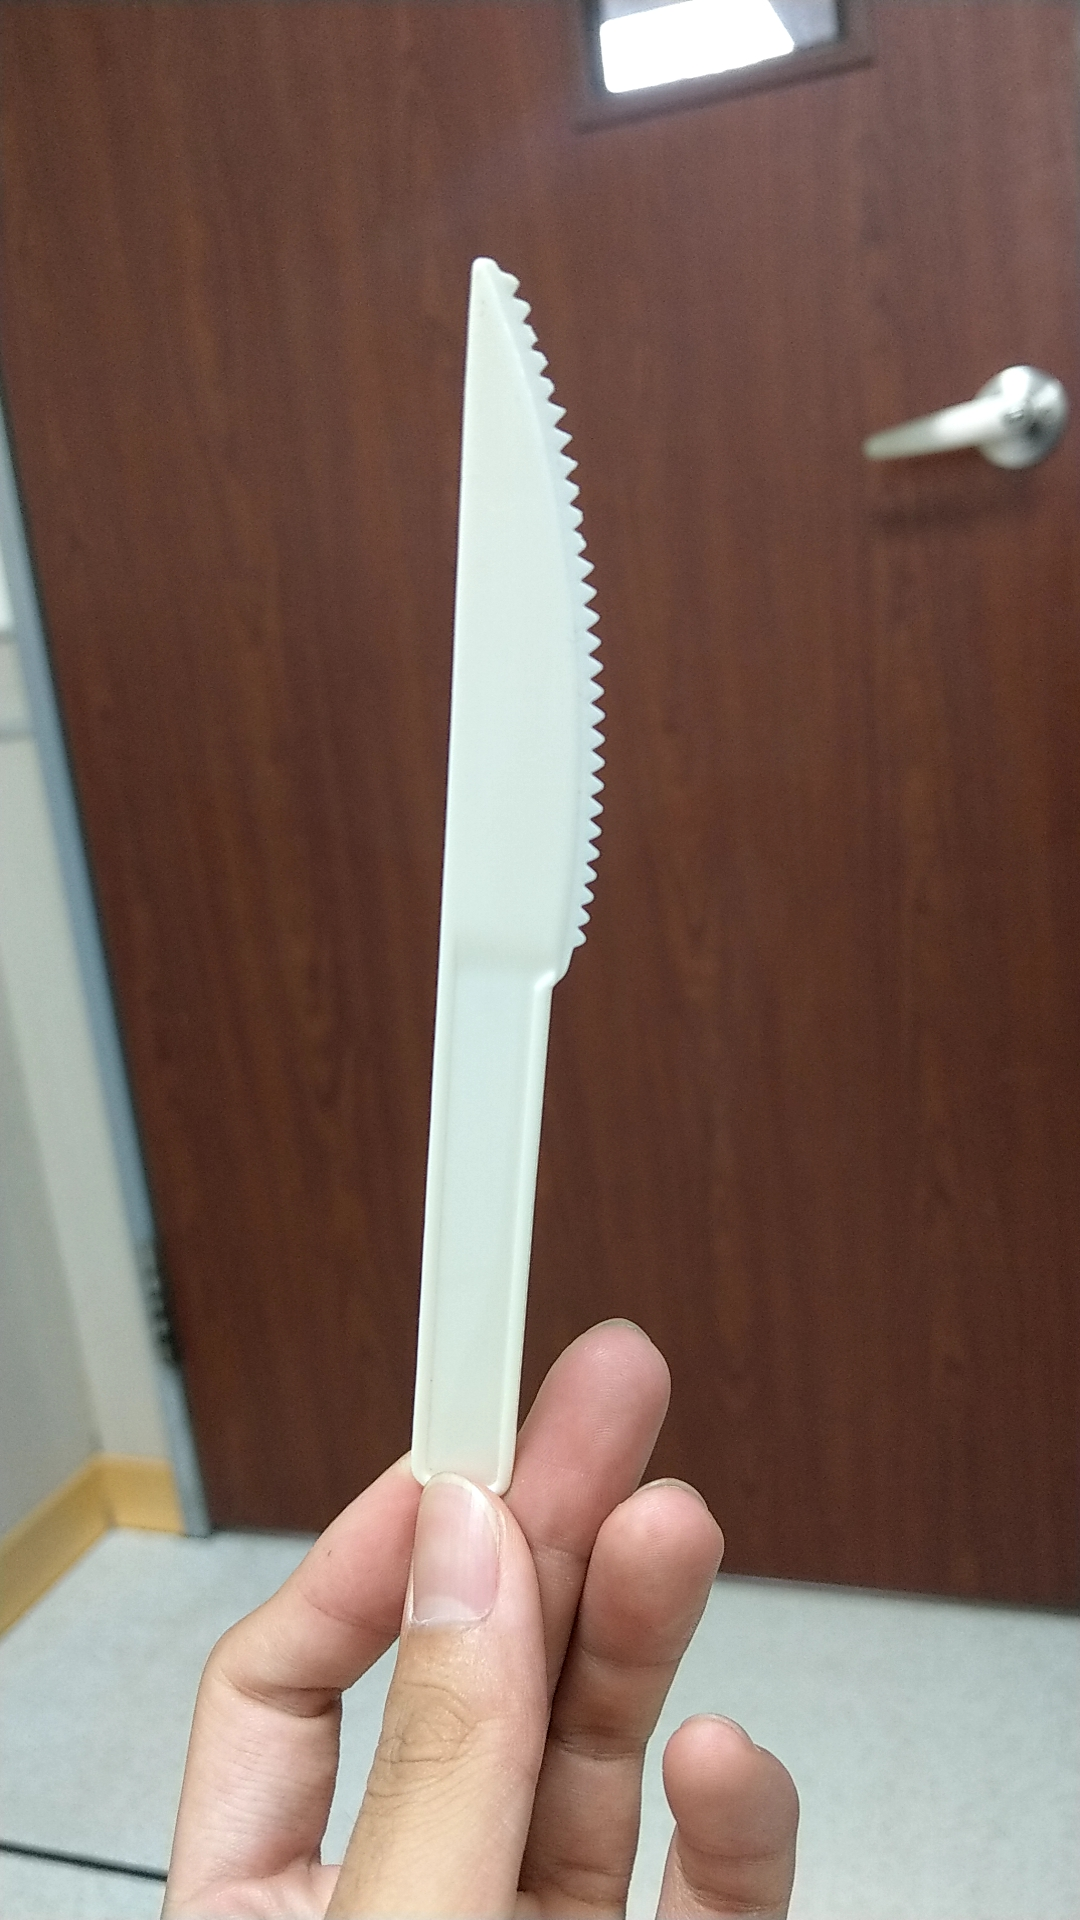knife: (397, 214, 618, 1317)
